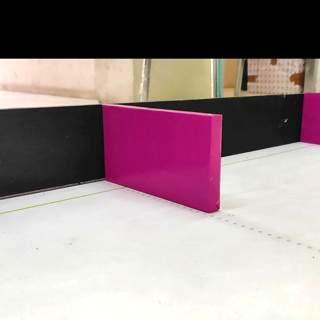xparking: (105, 117, 214, 202), (303, 93, 317, 142)
